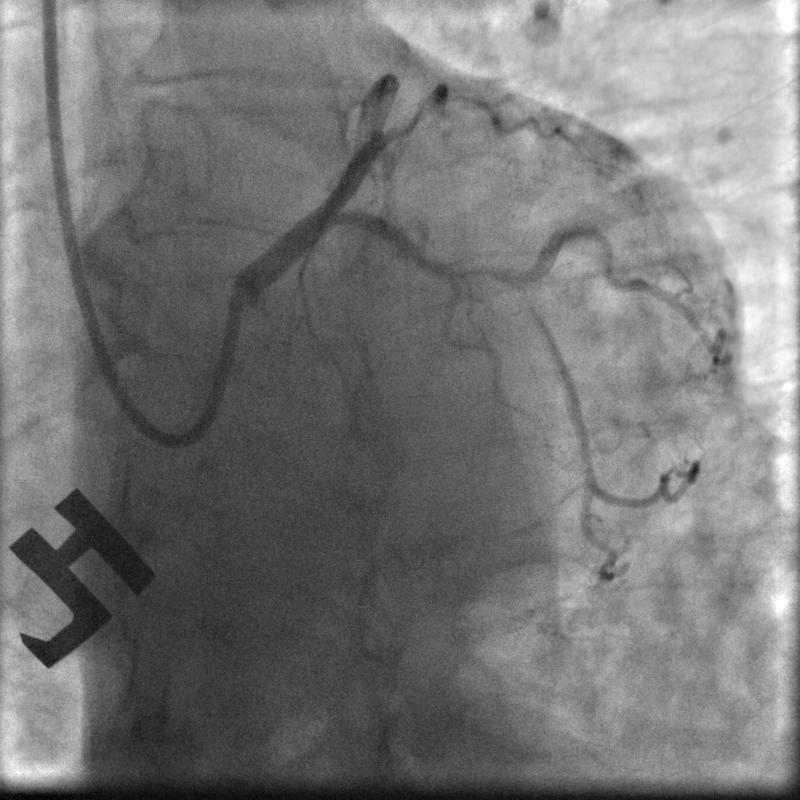Stenosis: (442, 255, 540, 301)
